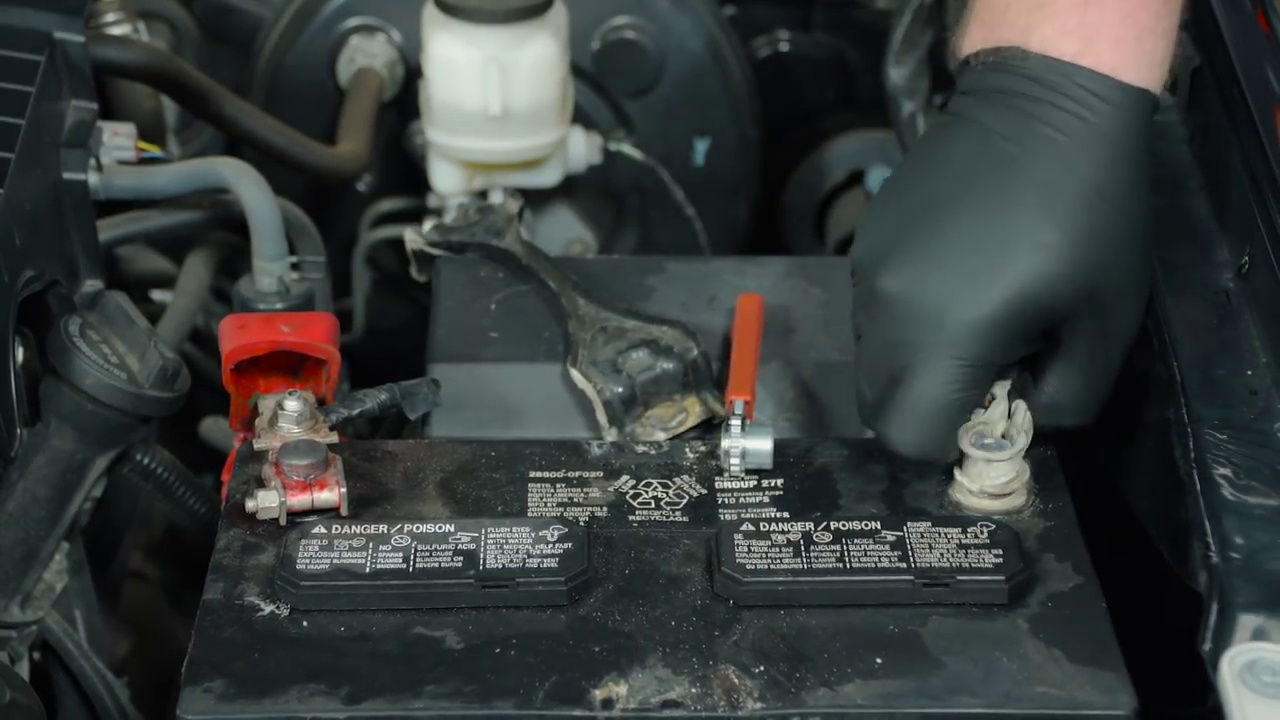battery: (205, 383, 1087, 680)
neg_connected: (907, 350, 1074, 517)
neg_touched: (861, 276, 1122, 517)
pos_connected: (209, 304, 380, 544)
